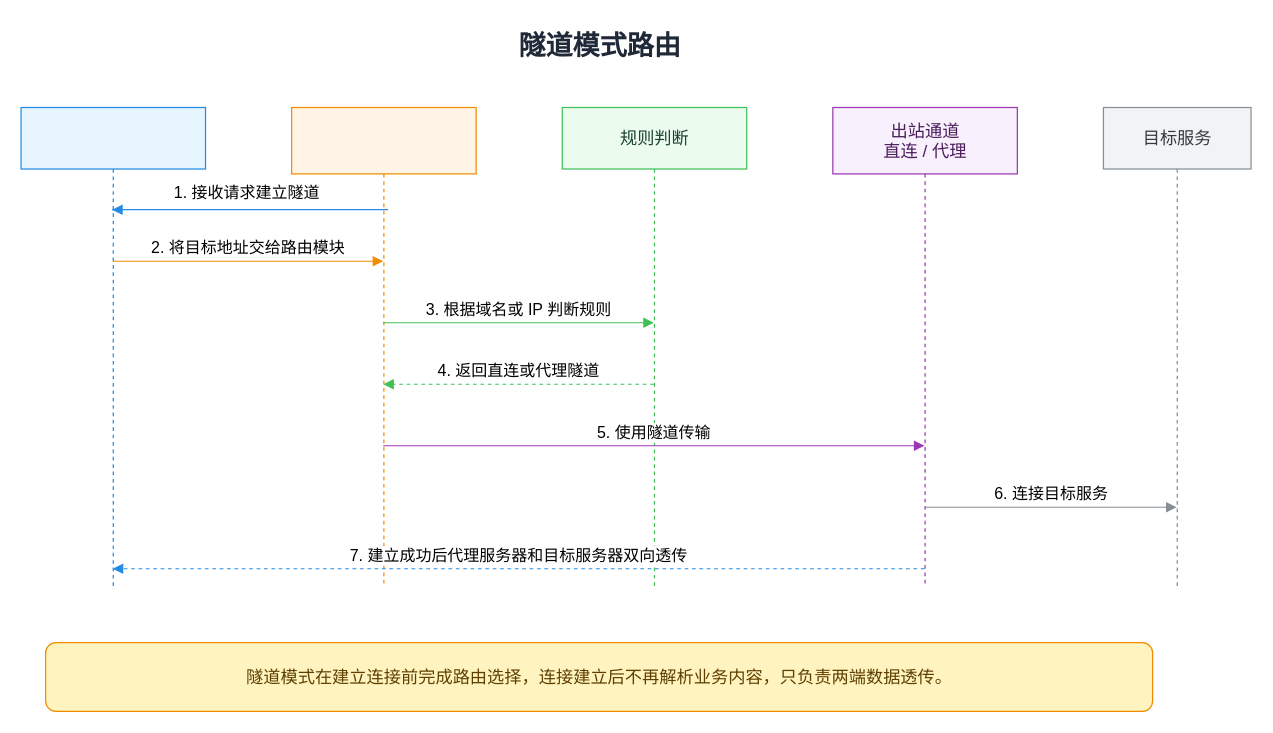
This 1273x733 diagram has some shape labels left out. The shapes that lost their labels are listed below. From the top down, each one's box as (x1, y1, x2, y2) in pixels, then its label:
(20, 106, 206, 587): 隧道请求处理
(290, 106, 476, 587): 路由模块
